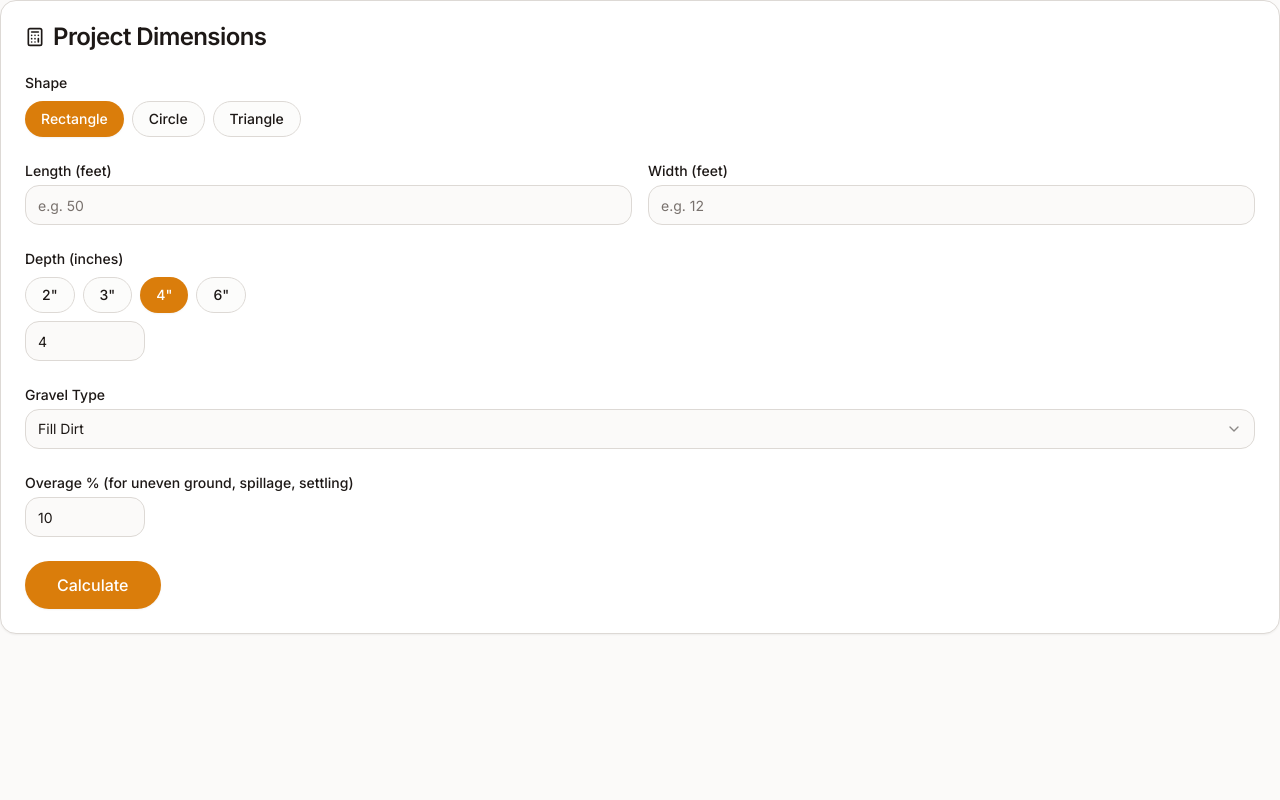
Test case: GravelCalculator › shape selection › should switch to circle shape and show radius input
Click the button "circle": (168, 119) [132,101,205,137]
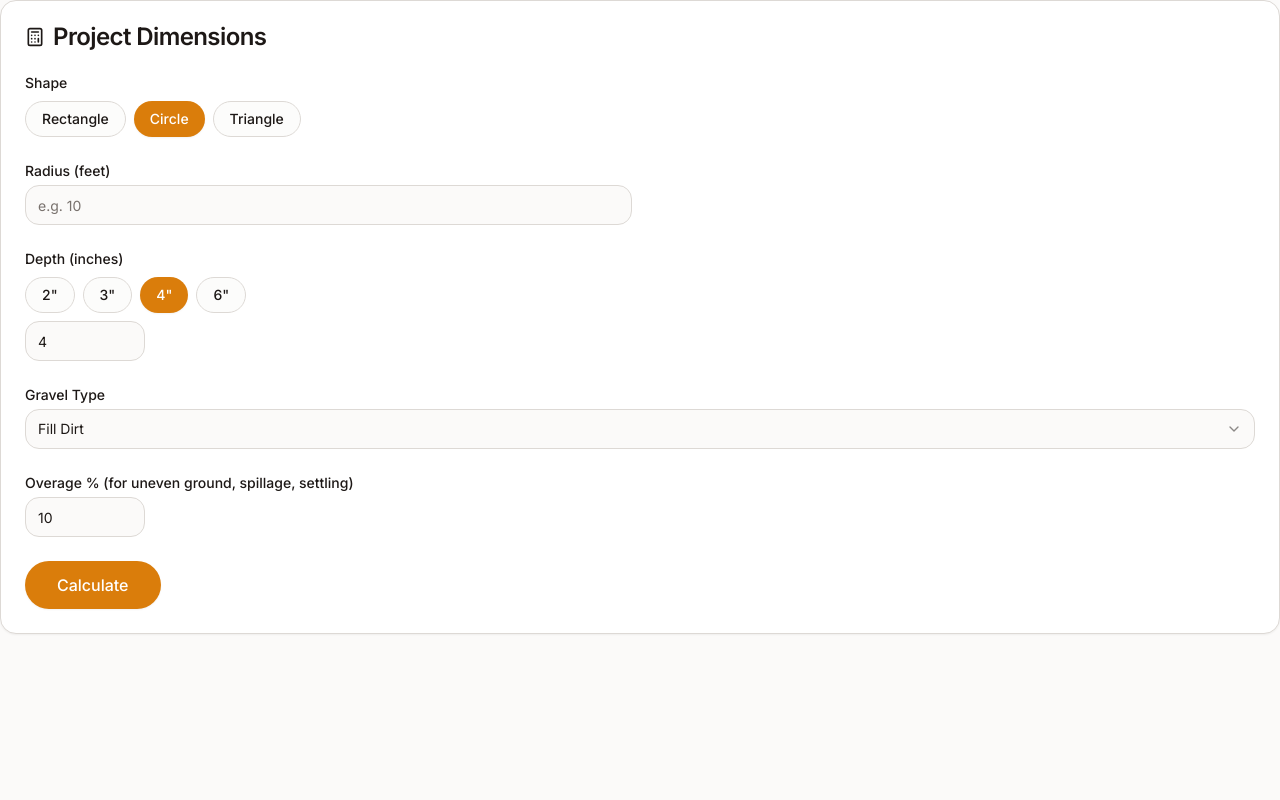
Check: the field with placeholder "e.g. 50" is not shown
Check: the number field with placeholder "e.g. 10" is shown, box [25,185,632,225]
